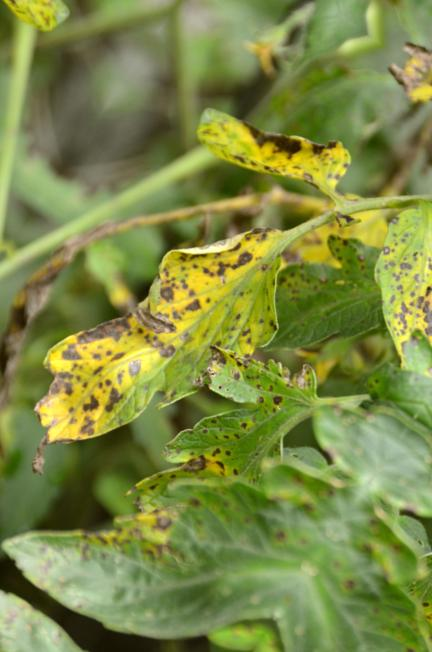Tomato Early blight leaf: (13, 160, 312, 497), (186, 69, 364, 225), (323, 182, 432, 387)
